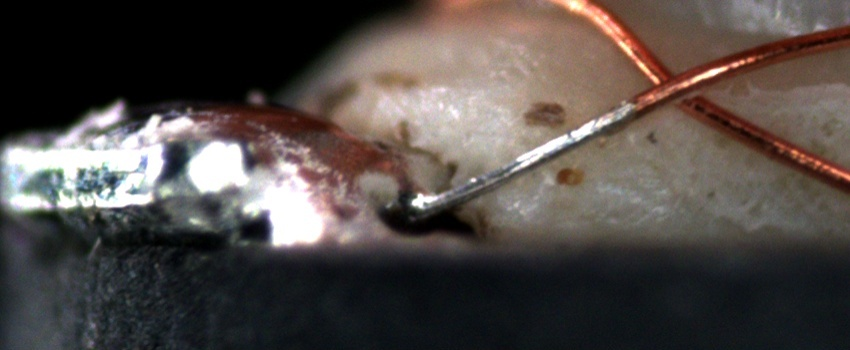CL: (627, 52, 725, 120)
TS: (392, 102, 636, 220)
